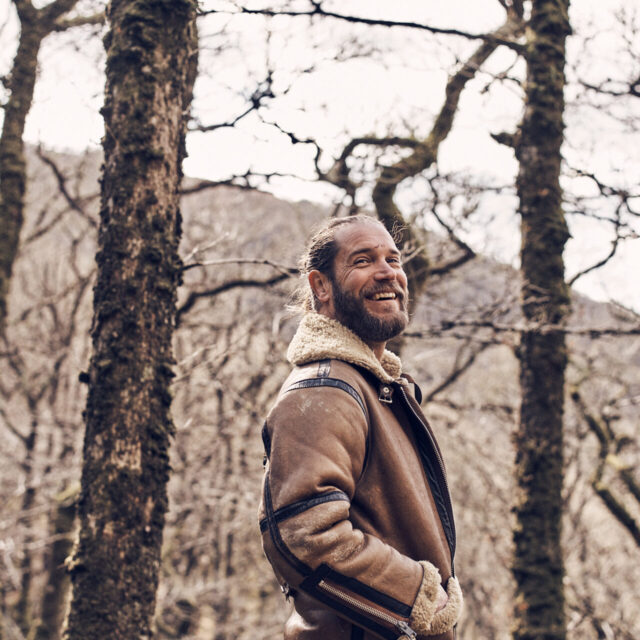human: (302, 222, 413, 337)
